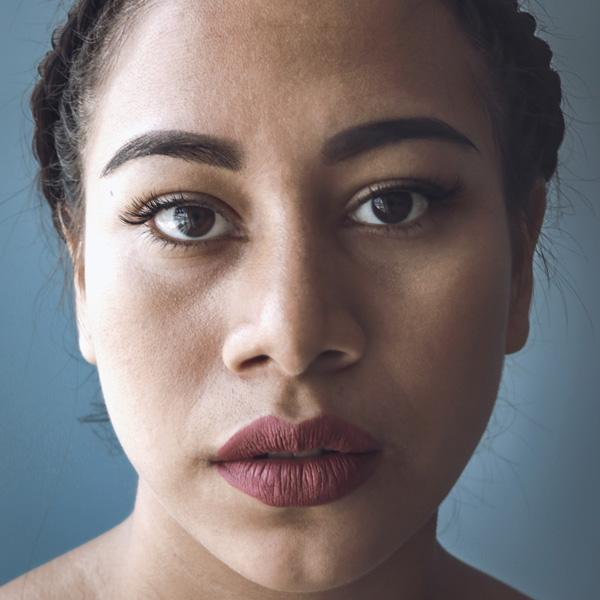Eyes: (118, 183, 253, 261), (332, 173, 455, 247)
